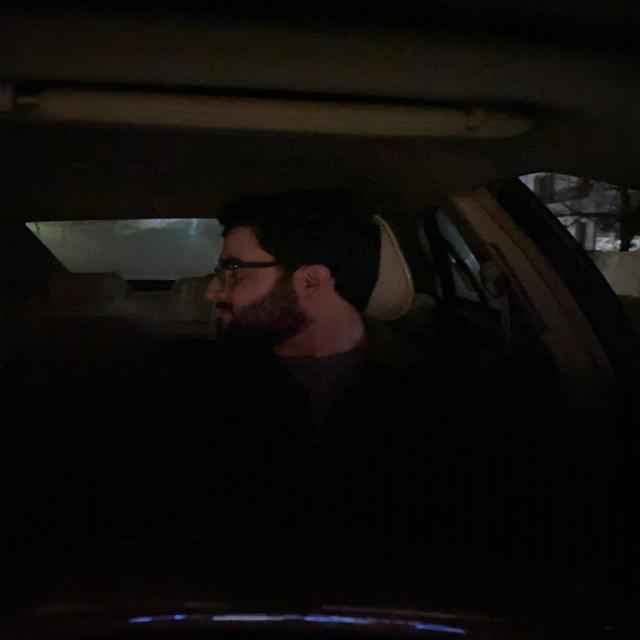LeftRight: (188, 183, 406, 364)
